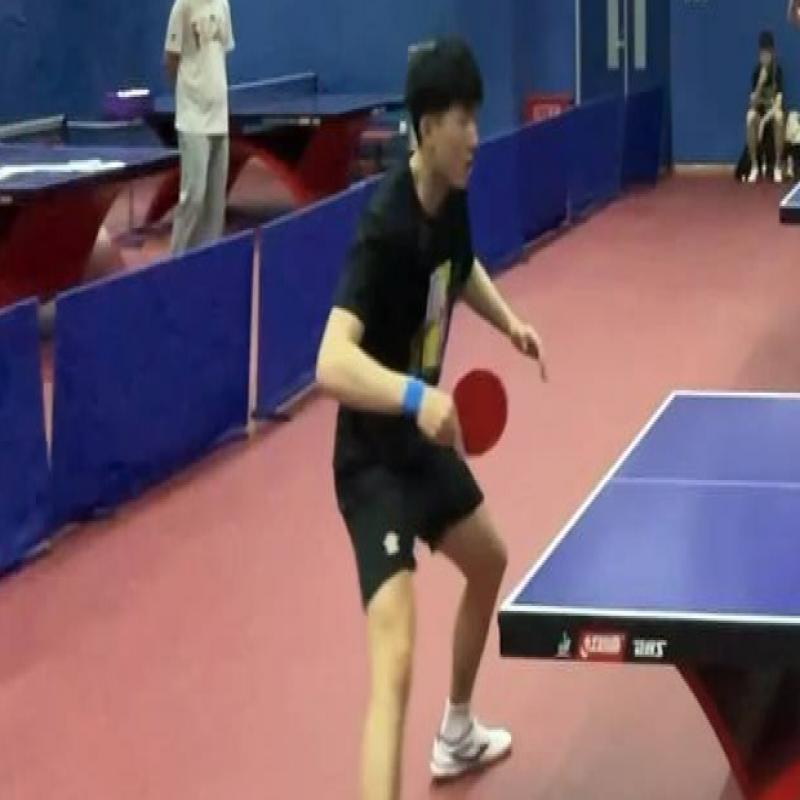bats: (440, 354, 516, 465)
